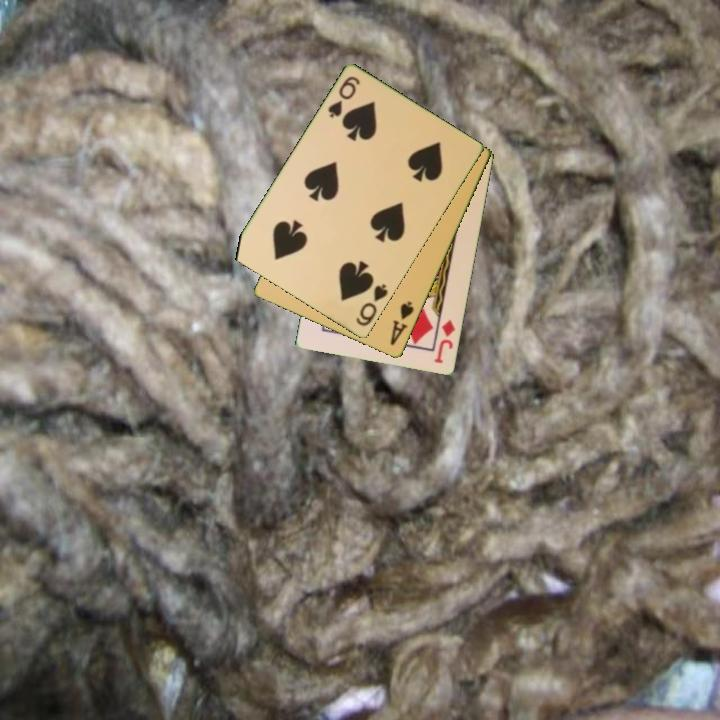6s: (352, 281, 391, 330), (324, 73, 363, 121)
As: (387, 298, 417, 349)
Jd: (431, 317, 458, 367)
